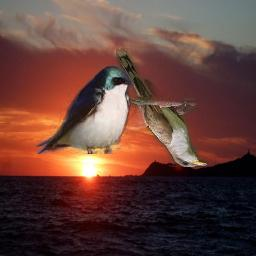Cuckoo: (117, 49, 208, 168)
Swallow: (36, 64, 134, 154)
